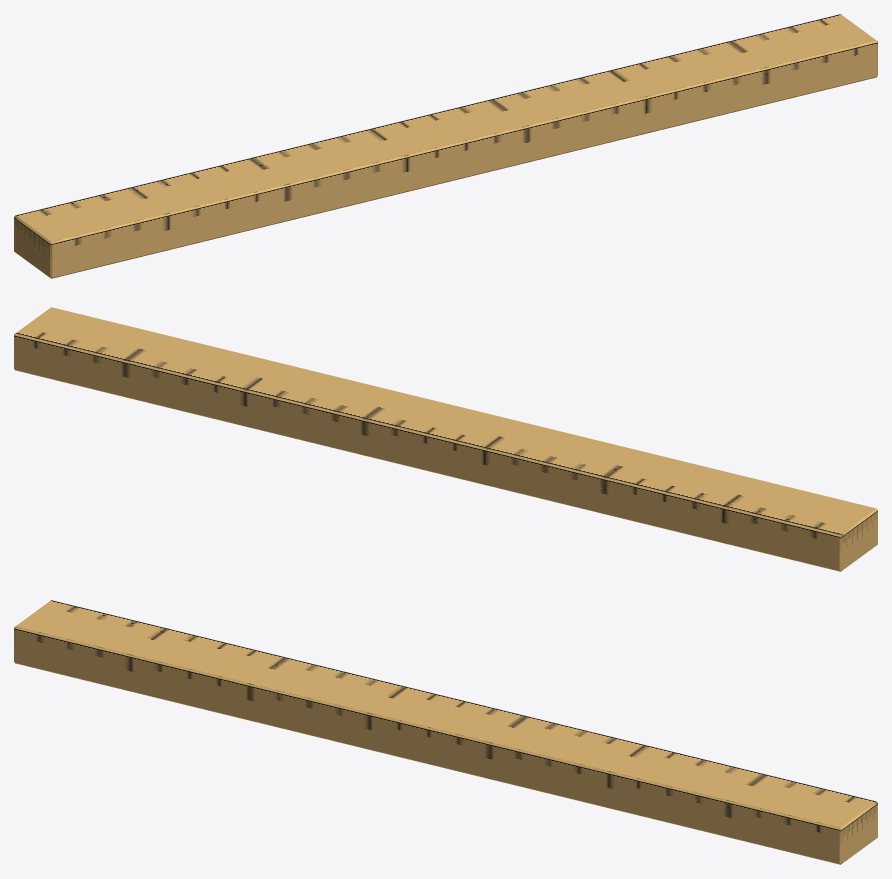
File: ruler-cornice.fbx
3 renders of one model, top to bottom at view 1: azimuth 30°, elevation 25°; view 2: azimuth 150°, elevation 25°; view 3: azimuth 330°, elevation 25°, orthographic.
Parts seen in each view (by area): view 1: ruler-cornice; view 2: ruler-cornice; view 3: ruler-cornice.
Boxes of the visible parts, left/top/right/bottom form: ruler-cornice: left=14, top=14, right=877, bottom=278; ruler-cornice: left=14, top=307, right=877, bottom=571; ruler-cornice: left=14, top=600, right=877, bottom=864.
Bounding box in the file's own units: 2800 × 120 × 220.
Materials: 1 (1 with a texture image).
